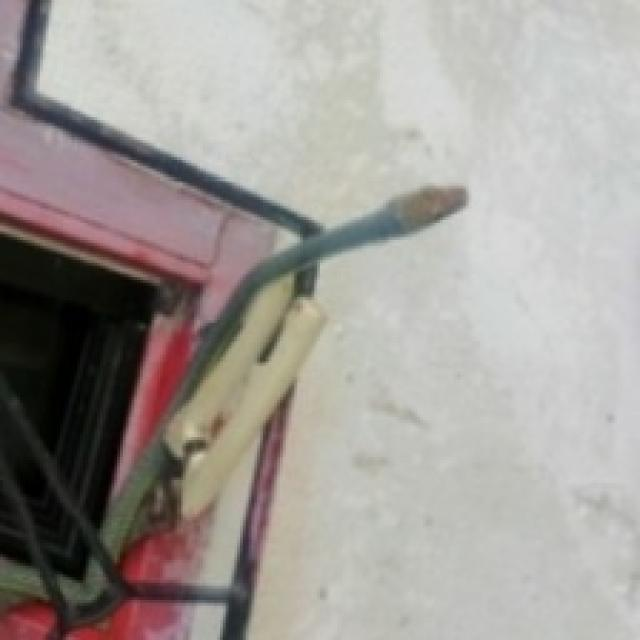paradise tree snake: (0, 186, 466, 637), (183, 434, 263, 586)
